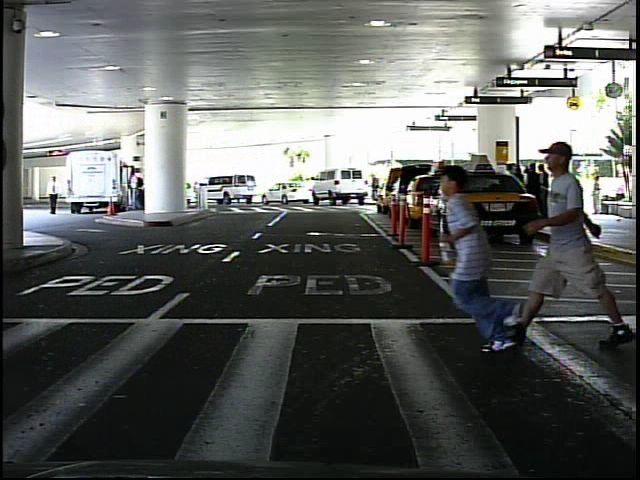person: (524, 121, 620, 356), (441, 154, 545, 356), (46, 173, 64, 217), (369, 172, 384, 204), (595, 172, 601, 218)
